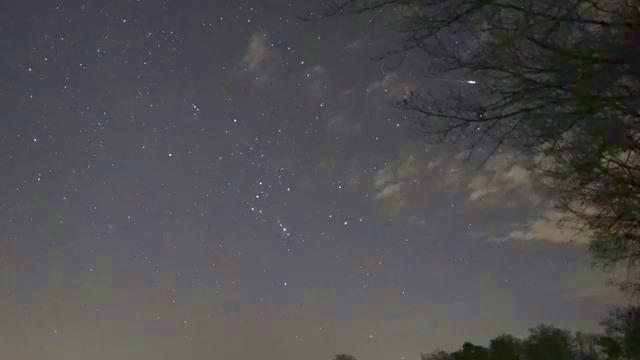meteorite: (412, 77, 486, 90)
